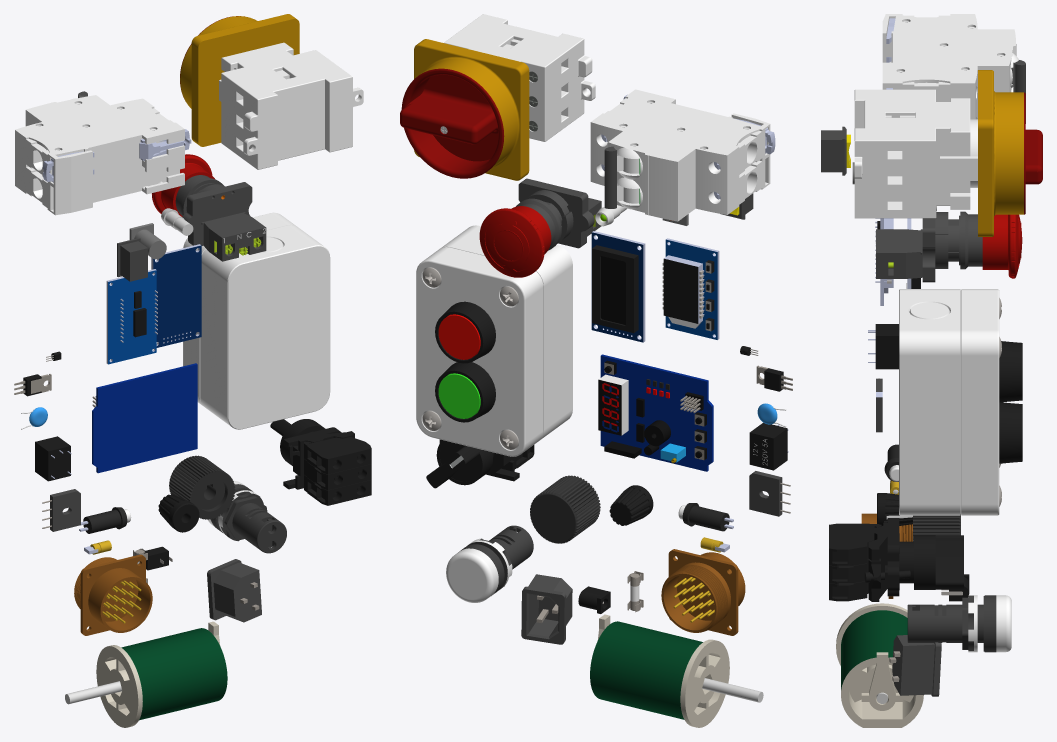
Rendered from CATIAModel.fbx.
The picture shows the model from 3 angles, left to right: view 1: azimuth 30°, elevation 25°; view 2: azimuth 150°, elevation 25°; view 3: azimuth 270°, elevation 25°; orthographic projection. The views are drawn at different scales.
Parts seen in each view (by area): view 1: start_stop, DISJUNTOR 2_Valor predeterminado, 194E-A25_A32-1753 LOAD SWITCH, Rheostat PPB-50E, multifunction shidle, 194L-HE6G_N_ACTUATOR, SW1, connector_MIL-C-26482, LCD display 0802, 1-channel_pwm_generator, P20BKR1_Valor predeterminado, SINALEIRO_Predeterminado (+11 smaller); view 2: start_stop, DISJUNTOR 2_Valor predeterminado, 194L-HE6G_N_ACTUATOR, multifunction shidle, Rheostat PPB-50E, 194E-A25_A32-1753 LOAD SWITCH, P20BKR1_Valor predeterminado, connector_MIL-C-26482, LCD display 0802, 1-channel_pwm_generator, SINALEIRO_Predeterminado, handle_1 (+9 smaller); view 3: start_stop, 194E-A25_A32-1753 LOAD SWITCH, DISJUNTOR 2_Valor predeterminado, SW1, 194L-HE6G_N_ACTUATOR, Rheostat PPB-50E, P20BKR1_Valor predeterminado, SINALEIRO_Predeterminado, plug, P20BKR1_Valor predeterminado001, Rheostat PPB-50E002, relay_YX202-S-112DF (+9 smaller).
Part boxes in pixels (x1,y1,x2,y2): start_stop: (183,212,330,429); DISJUNTOR 2_Valor predeterminado: (15,95,184,215); 194E-A25_A32-1753 LOAD SWITCH: (219,42,363,169); Rheostat PPB-50E: (96,628,227,727); multifunction shidle: (92,363,197,473); 194L-HE6G_N_ACTUATOR: (180,14,299,146); SW1: (270,419,371,505); connector_MIL-C-26482: (74,554,152,635); LCD display 0802: (151,244,201,347); 1-channel_pwm_generator: (106,269,156,364); P20BKR1_Valor predeterminado: (152,154,252,245); SINALEIRO_Predeterminado: (208,480,286,553); start_stop: (416,225,572,456); DISJUNTOR 2_Valor predeterminado: (590,89,770,221); 194L-HE6G_N_ACTUATOR: (400,39,529,180); multifunction shidle: (598,354,713,471); Rheostat PPB-50E: (590,621,729,727); 194E-A25_A32-1753 LOAD SWITCH: (444,14,595,141); P20BKR1_Valor predeterminado: (479,178,594,277); connector_MIL-C-26482: (661,549,745,635); LCD display 0802: (591,231,645,342); 1-channel_pwm_generator: (663,238,719,339); SINALEIRO_Predeterminado: (446,525,533,602); handle_1: (530,475,600,543); start_stop: (899,289,1022,515); 194E-A25_A32-1753 LOAD SWITCH: (854,89,977,218); DISJUNTOR 2_Valor predeterminado: (882,14,1018,119); SW1: (829,518,963,601); 194L-HE6G_N_ACTUATOR: (978,70,1042,236); Rheostat PPB-50E: (836,603,923,727); P20BKR1_Valor predeterminado: (922,211,1022,282); SINALEIRO_Predeterminado: (907,595,1011,652); plug: (892,635,941,696); P20BKR1_Valor predeterminado001: (875,229,922,278); Rheostat PPB-50E002: (861,652,902,710); relay_YX202-S-112DF: (868,324,898,369).
Size of the model in its own units: 0.2215 by 0.115 by 0.3926.
